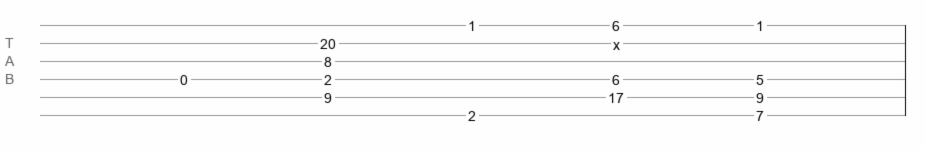0: (180, 72, 188, 82)
1: (468, 18, 476, 28), (756, 18, 764, 28)
17: (608, 90, 624, 100)
2: (324, 72, 332, 82), (468, 108, 476, 118)
20: (320, 36, 336, 46)
5: (756, 72, 764, 82)
6: (612, 18, 620, 28), (612, 72, 620, 82)
7: (756, 108, 764, 118)
8: (324, 54, 332, 64)
9: (324, 90, 332, 100), (756, 90, 764, 100)
x: (613, 37, 620, 45)
